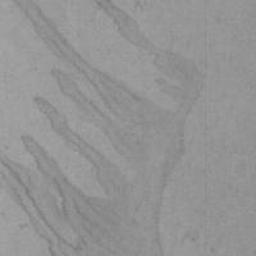Water spot: (0, 0, 215, 256)
